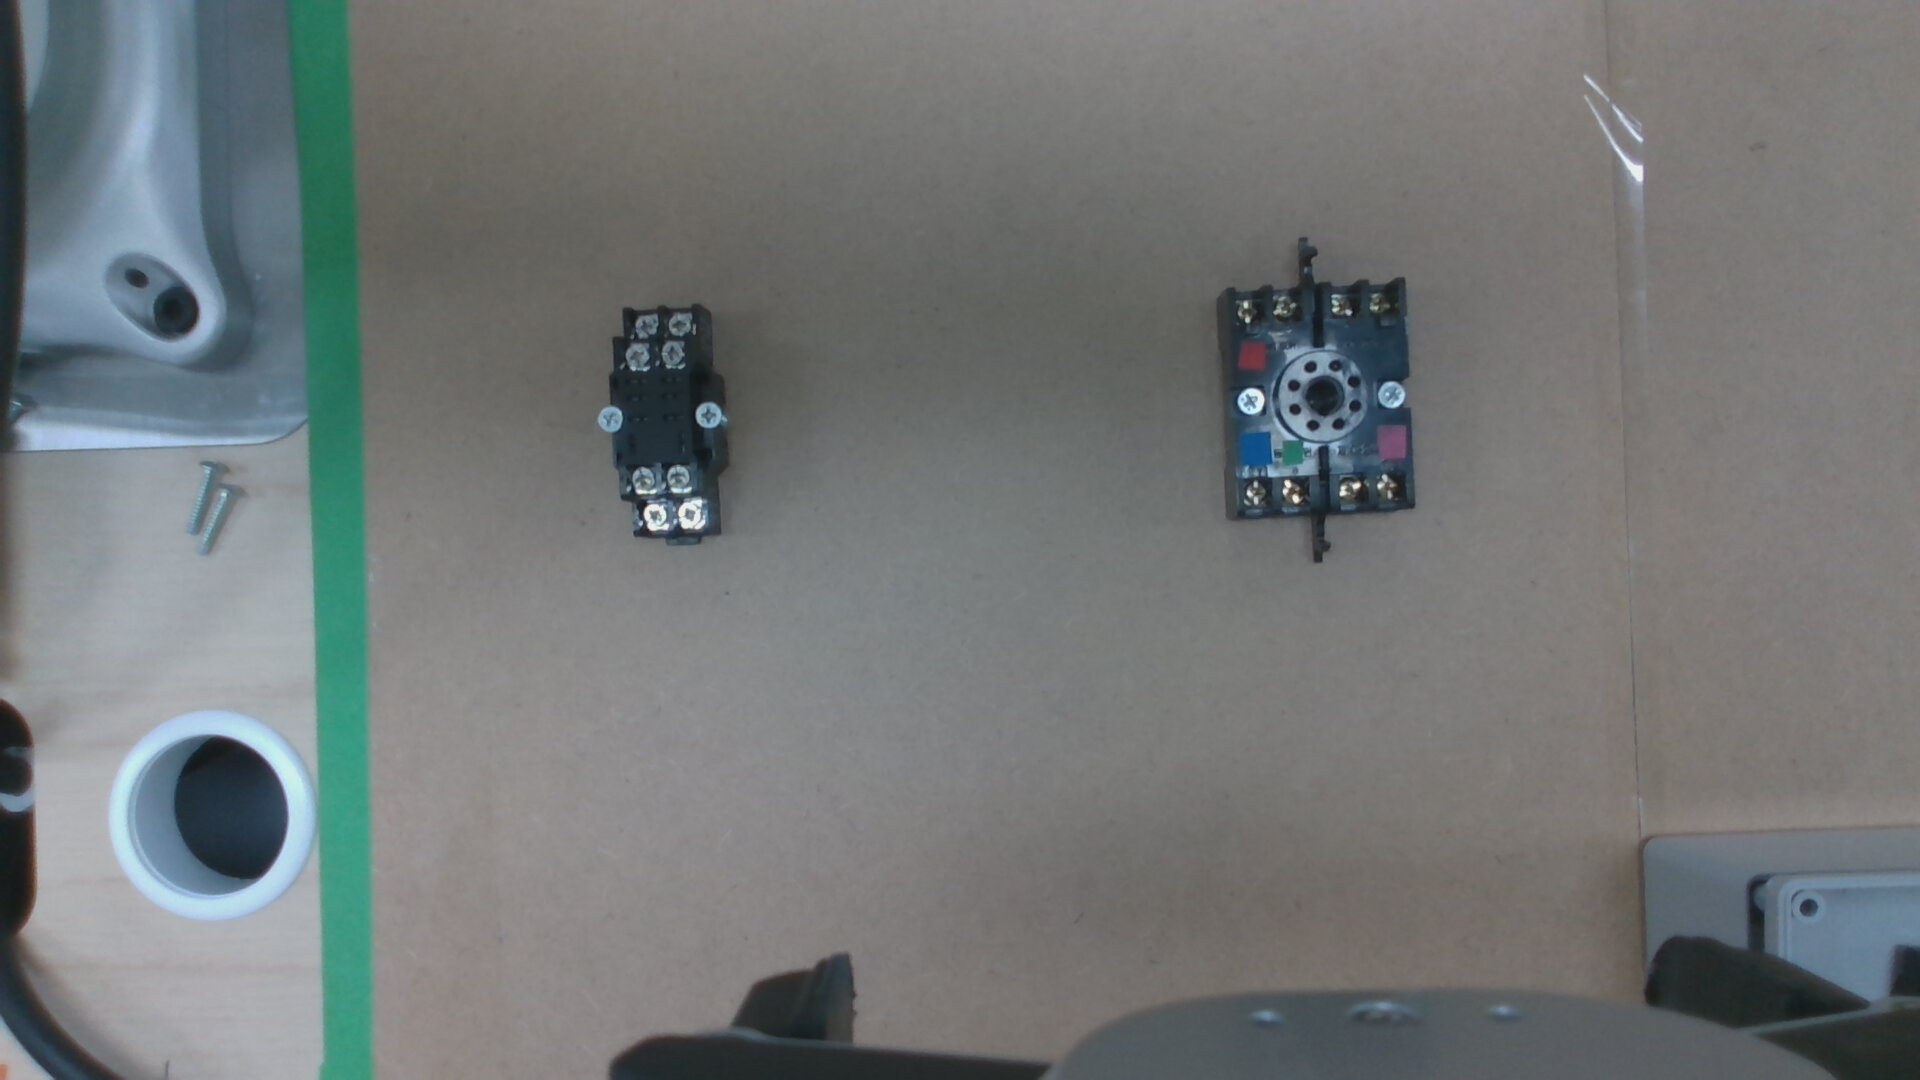relay 3: (665, 313, 690, 334)
relay 4: (632, 316, 655, 338)
relay 5: (675, 502, 702, 527)
relay 6: (640, 505, 667, 530)
relay 7: (665, 465, 690, 491)
relay 8: (628, 467, 655, 491)
